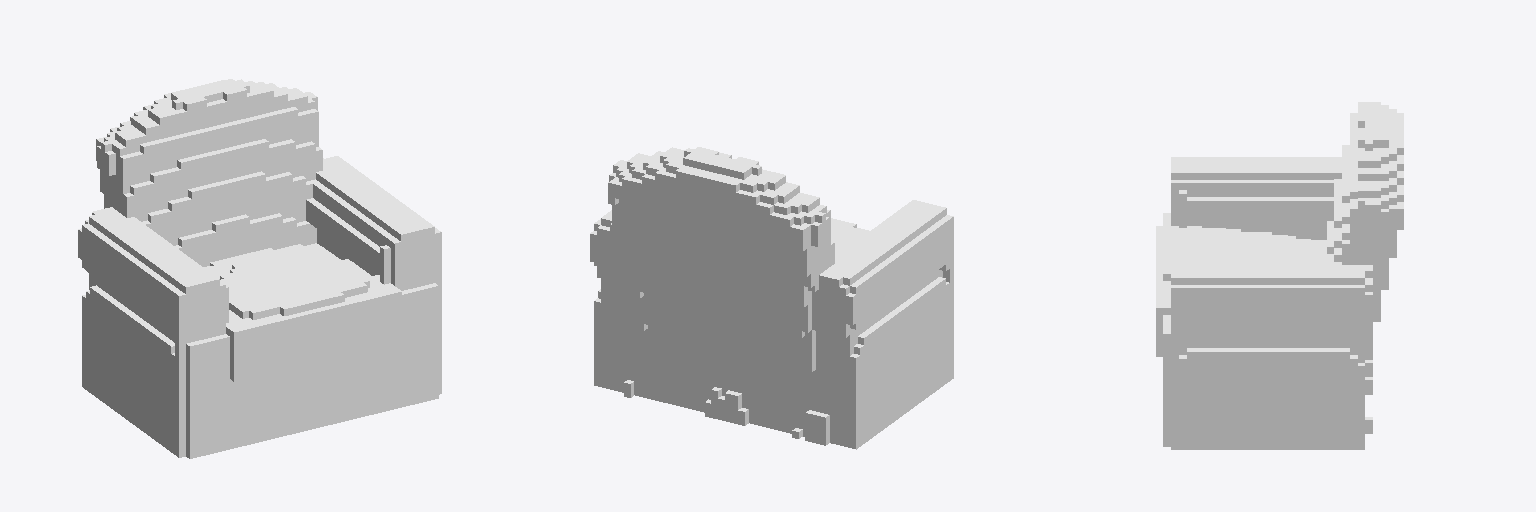
Rendered from divan-kreslo.obj.
3 views of the same model, side by side, from view 1: azimuth 30°, elevation 25°; view 2: azimuth 150°, elevation 25°; view 3: azimuth 270°, elevation 25° (orthographic).
Size of the model in its own units: 39 by 37 by 32.